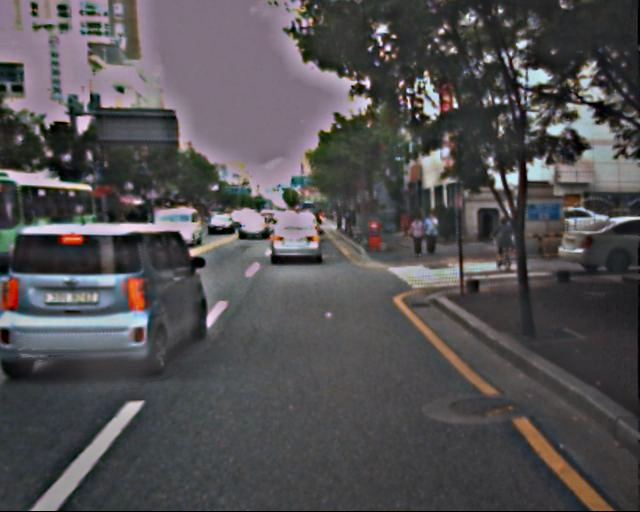person: (494, 215, 515, 267), (422, 210, 441, 257), (410, 217, 427, 258)
